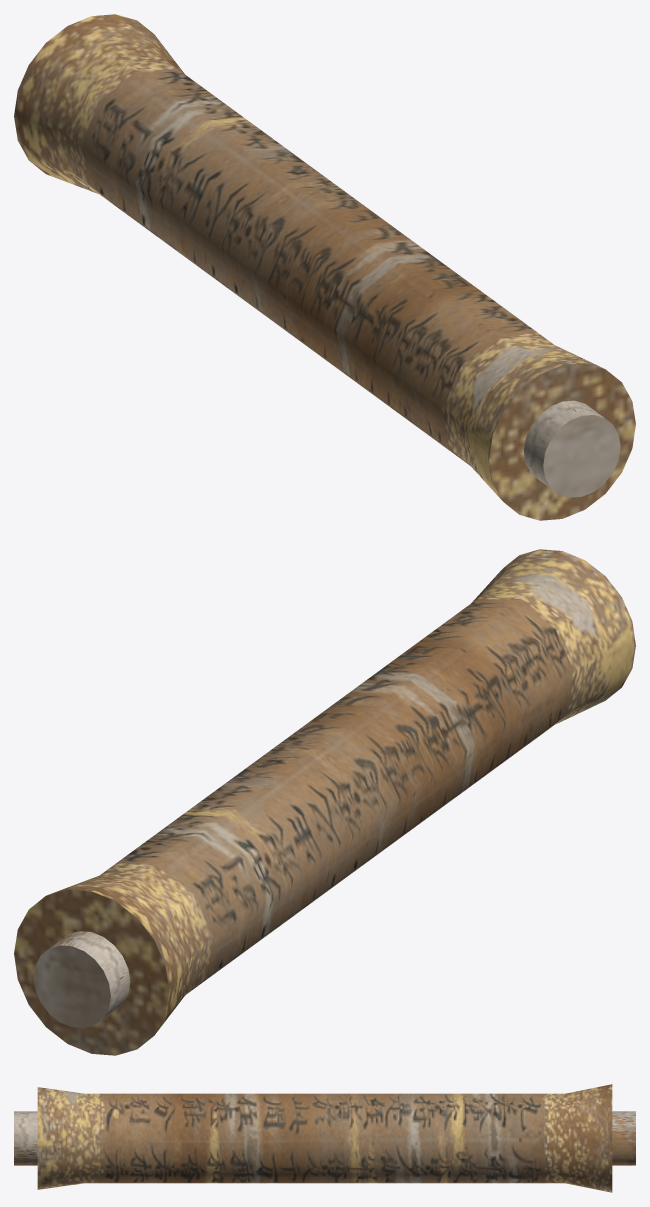
File: scroll3.fbx
3 views of the same model, one above another, from view 1: azimuth 30°, elevation 25°; view 2: azimuth 150°, elevation 25°; view 3: azimuth 270°, elevation 25° (orthographic). The views are drawn at different scales.
Parts seen in each view (by area): view 1: scroll3; view 2: scroll3; view 3: scroll3.
Boxes of the visible parts, x1,y1,x2,y2 form: scroll3: (14,14,635,520); scroll3: (14,549,635,1055); scroll3: (14,1084,635,1192).
Size of the model in its own units: 3.73 by 3.73 by 21.23.
1 material, 1 textured.
